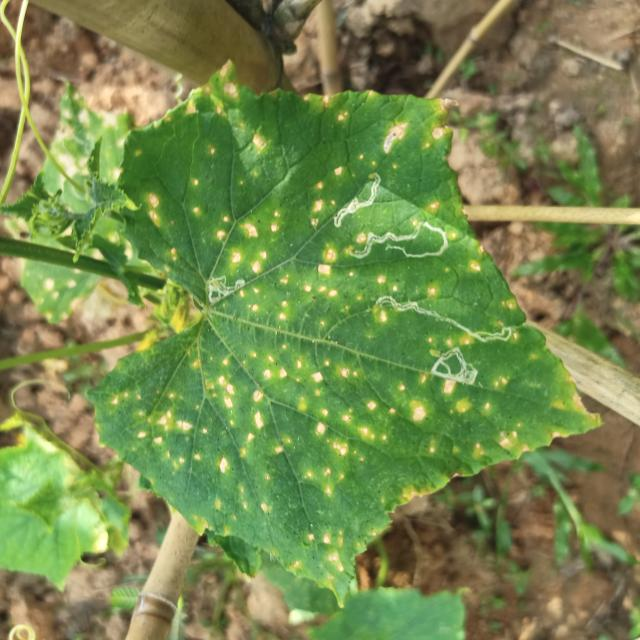disease_cucumber: (127, 354, 545, 572), (165, 175, 285, 277), (239, 240, 343, 326), (187, 60, 267, 152), (361, 117, 454, 166), (308, 156, 344, 229), (300, 87, 350, 125), (375, 271, 440, 298), (143, 188, 165, 228), (430, 333, 472, 348)
